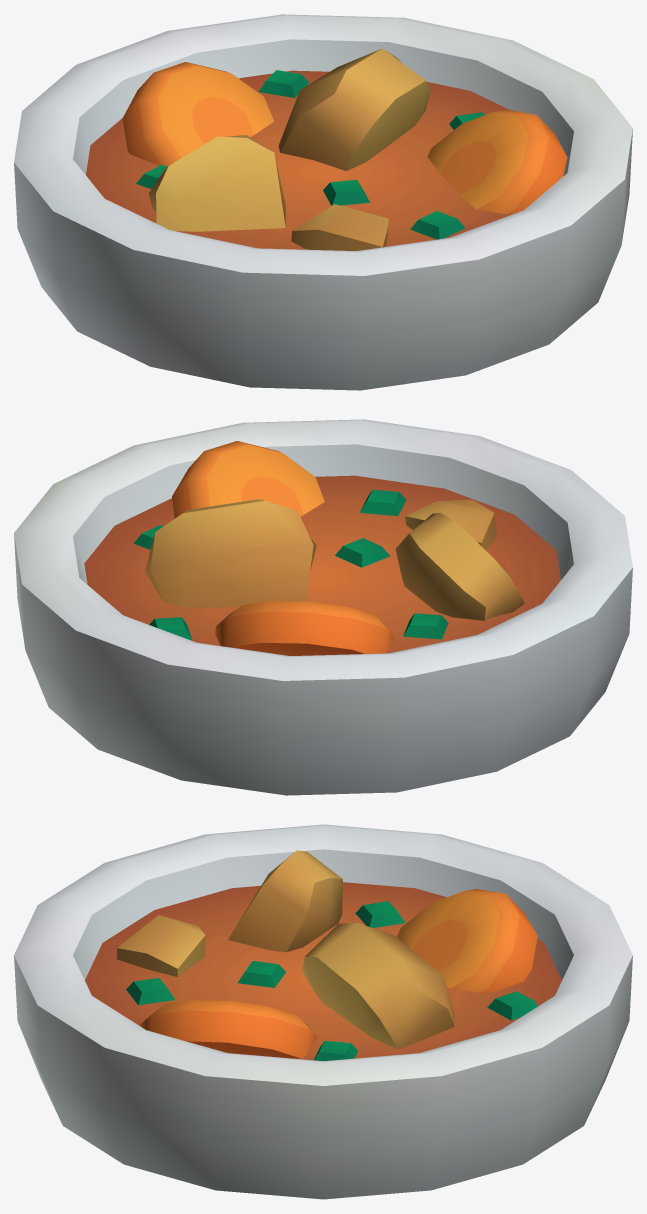
Rendered from kay-ensopado.gltf.
3 views of the same model, one above another, from view 1: azimuth 30°, elevation 25°; view 2: azimuth 150°, elevation 25°; view 3: azimuth 270°, elevation 25° (orthographic).
Parts seen in each view (by area): view 1: food_stew; view 2: food_stew; view 3: food_stew.
Boxes of the visible parts, x1=… form: food_stew: x1=14, y1=14, x2=632, y2=390; food_stew: x1=14, y1=419, x2=632, y2=795; food_stew: x1=14, y1=824, x2=632, y2=1199.
Size of the model in its own units: 0.6175 by 0.2403 by 0.6175.
1 material, 1 textured.
